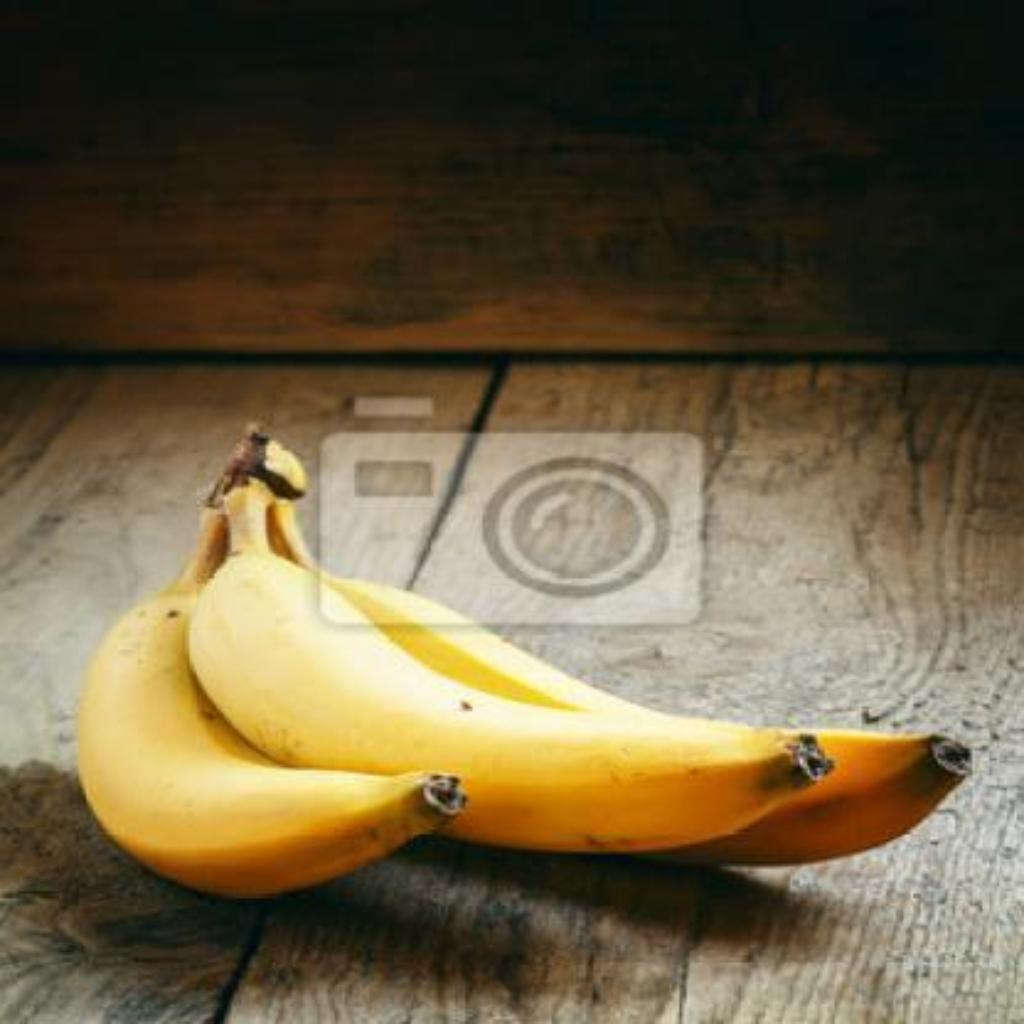banana: (185, 485, 714, 778), (81, 608, 458, 844)
